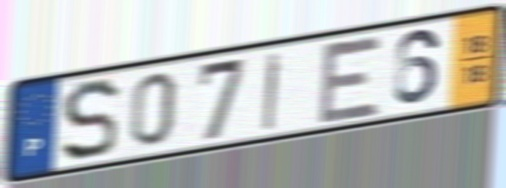0: (129, 69, 181, 151)
6: (392, 26, 442, 111)
7: (195, 58, 248, 144)
E: (315, 33, 386, 127)
I: (261, 49, 285, 134)
S: (59, 76, 122, 166)
